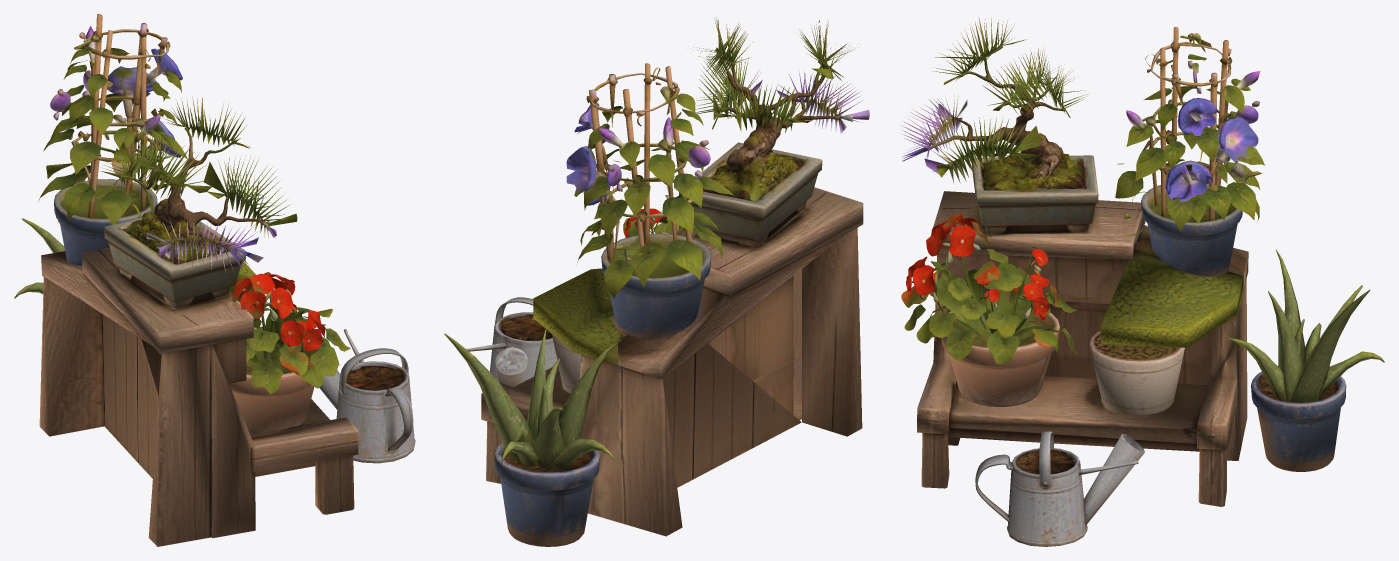
Rendered from potted_plants.glb.
3 views of the same model, side by side, from view 1: azimuth 30°, elevation 25°; view 2: azimuth 150°, elevation 25°; view 3: azimuth 270°, elevation 25° (orthographic). The views are drawn at different scales.
Parts seen in each view (by area): view 1: tripo_node_c06a4bb0-d990-4c31-b377-a7617a9fcefe; view 2: tripo_node_c06a4bb0-d990-4c31-b377-a7617a9fcefe; view 3: tripo_node_c06a4bb0-d990-4c31-b377-a7617a9fcefe.
Boxes of the visible parts, x1=… form: tripo_node_c06a4bb0-d990-4c31-b377-a7617a9fcefe: x1=14, y1=14, x2=415, y2=546; tripo_node_c06a4bb0-d990-4c31-b377-a7617a9fcefe: x1=444, y1=17, x2=869, y2=546; tripo_node_c06a4bb0-d990-4c31-b377-a7617a9fcefe: x1=901, y1=16, x2=1384, y2=546.
Size of the model in its own units: 0.7417 by 0.9263 by 0.9995.
Materials: 1 (1 with a texture image).
